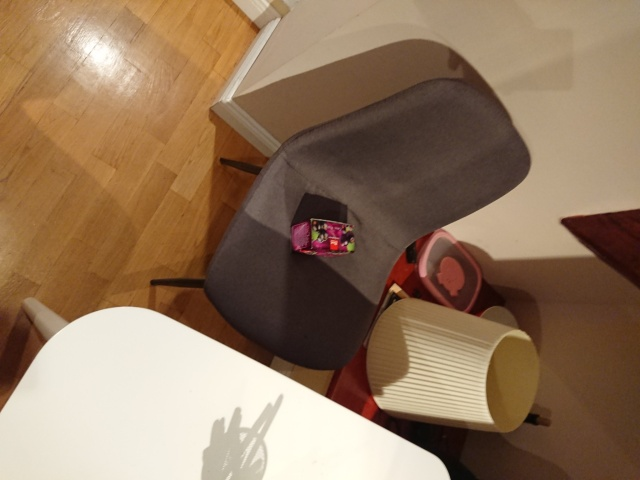Franck Black Currant Tea 60g: (288, 216, 357, 258)
